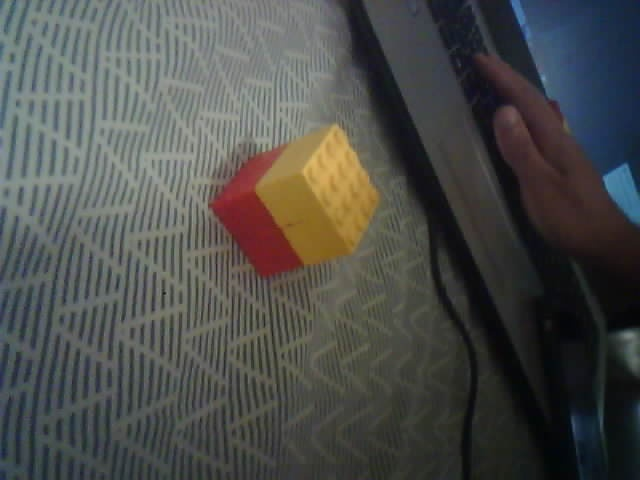lego: (208, 124, 384, 280)
